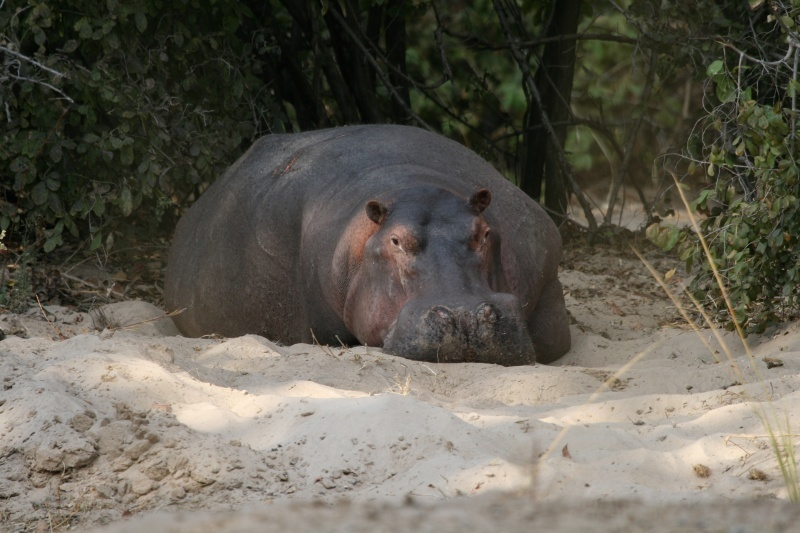hipopotamo: (161, 122, 588, 377)
